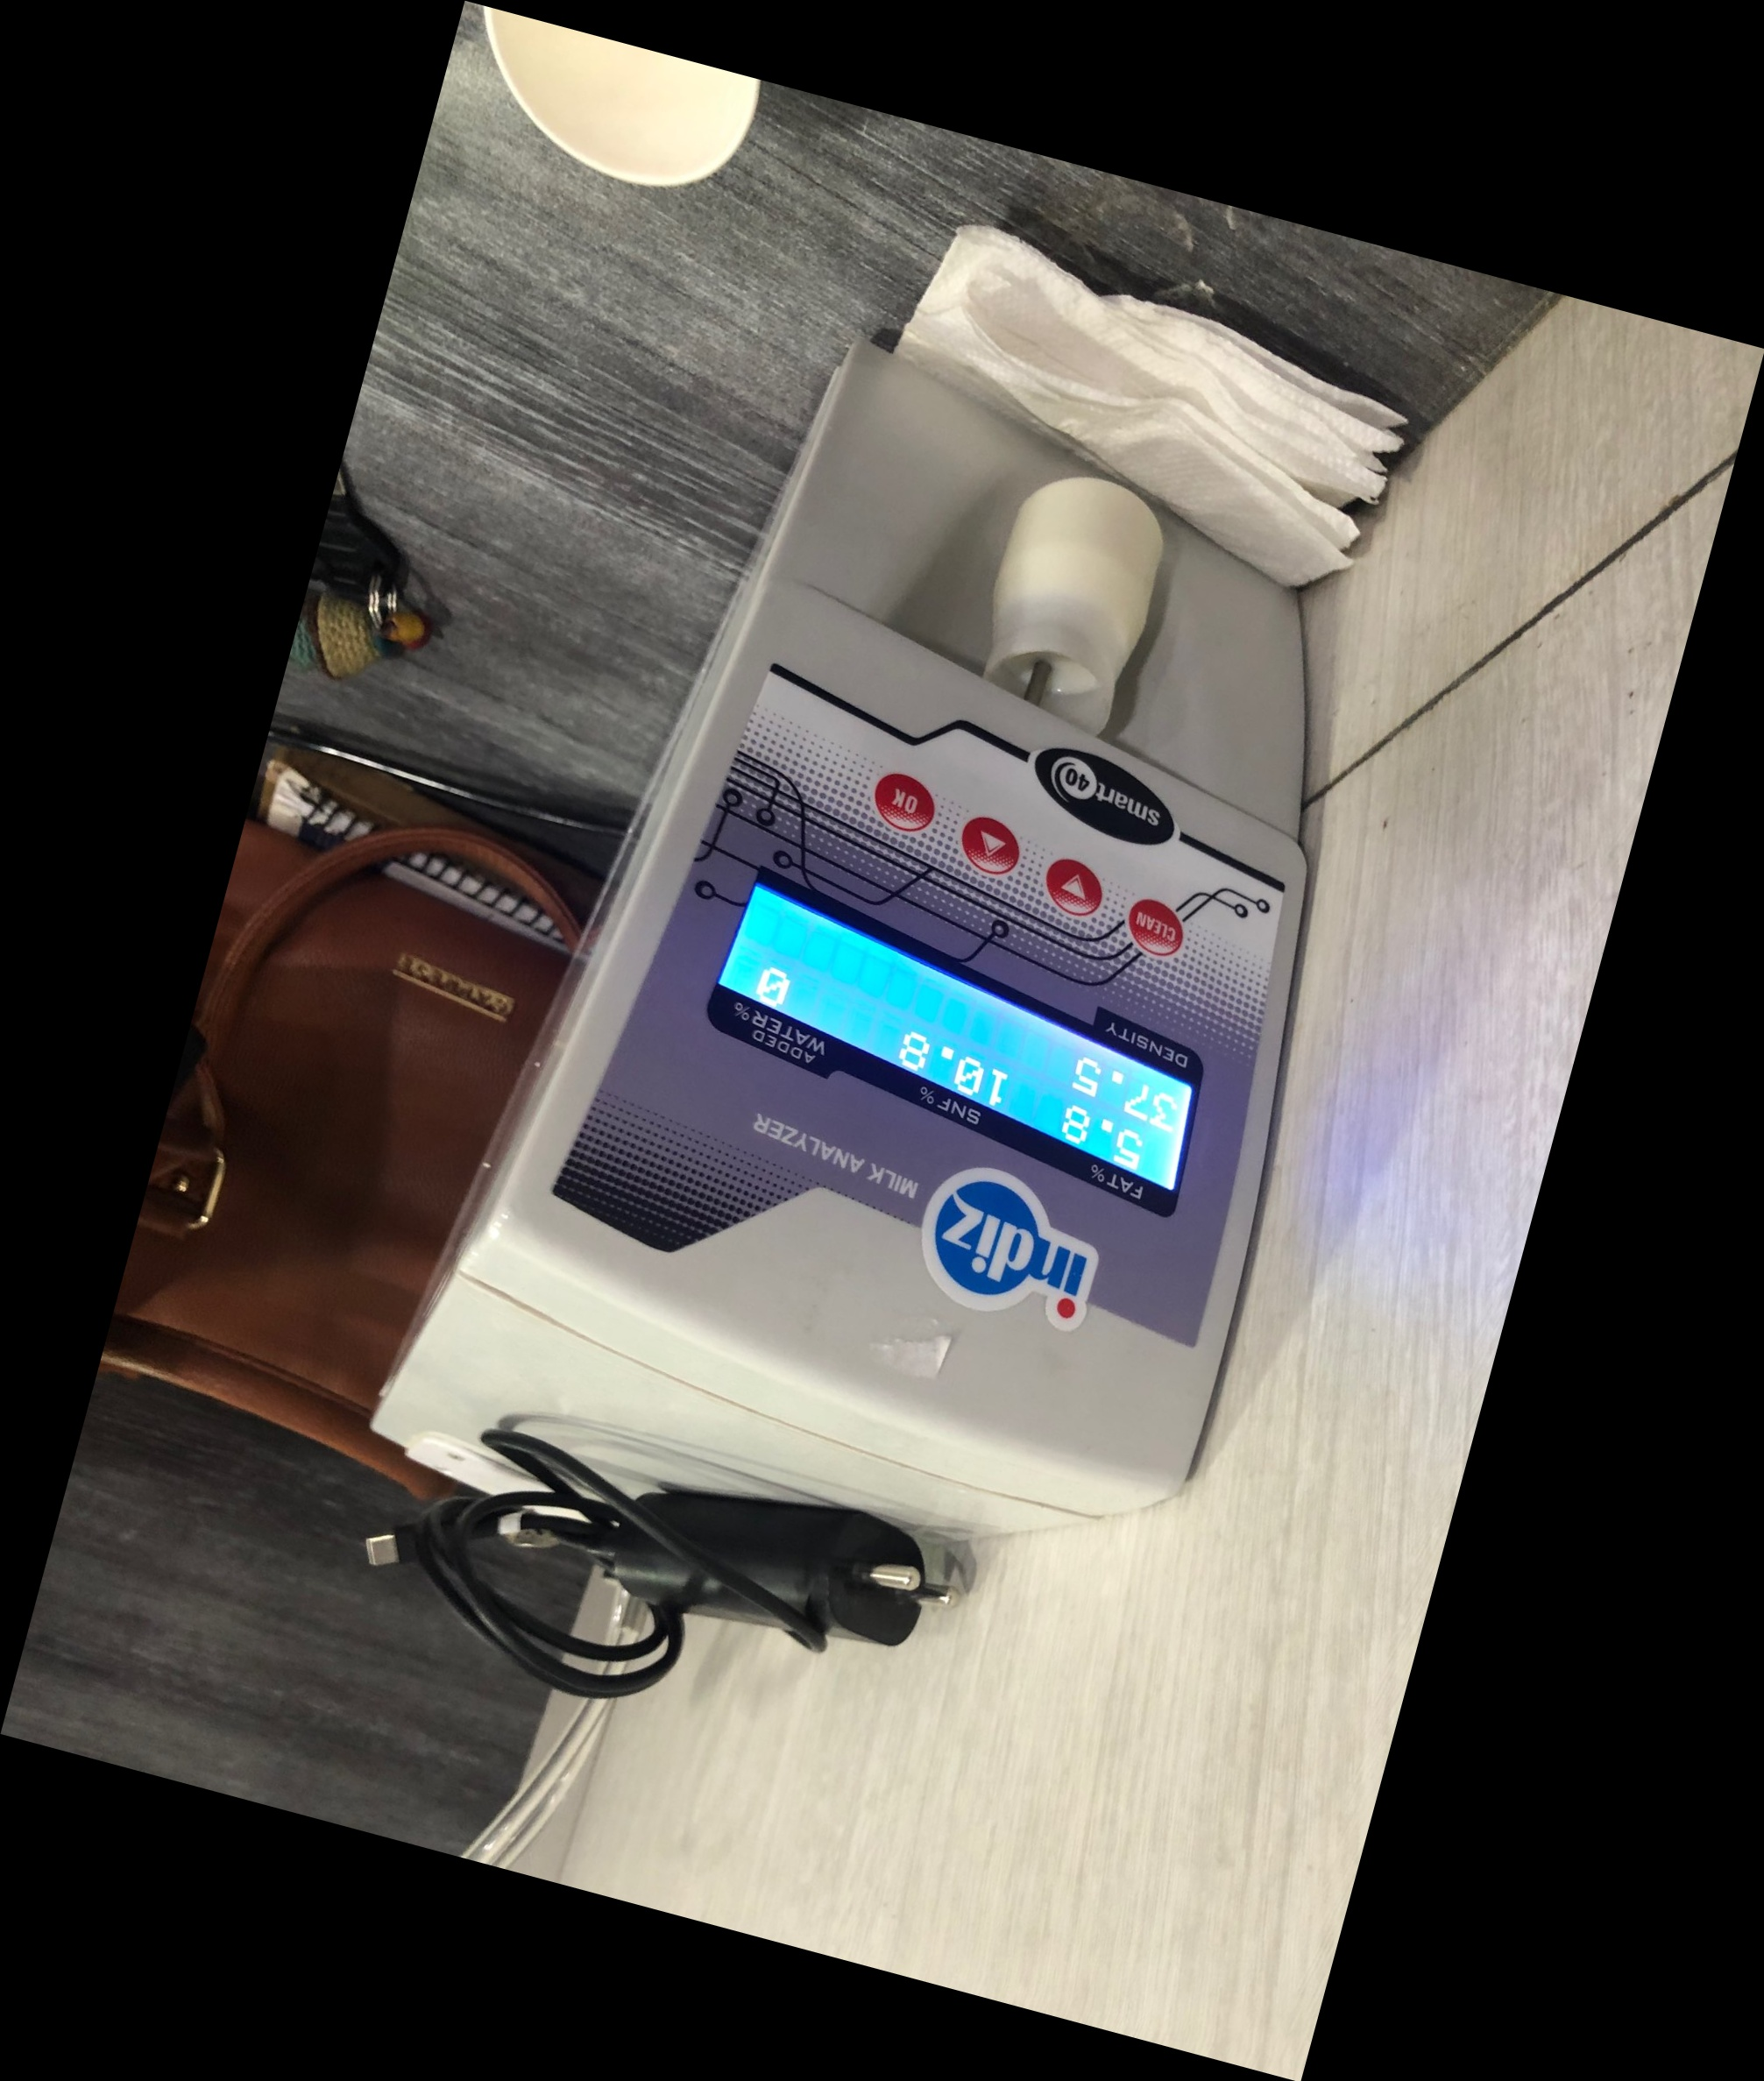lcd: (686, 859, 1227, 1339)
